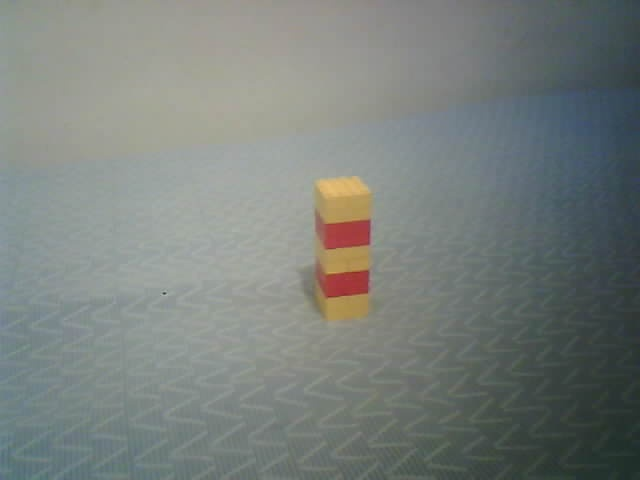lego: (311, 175, 372, 321)
